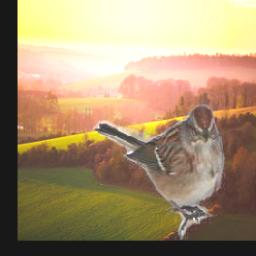Sparrow: (93, 100, 225, 240)
